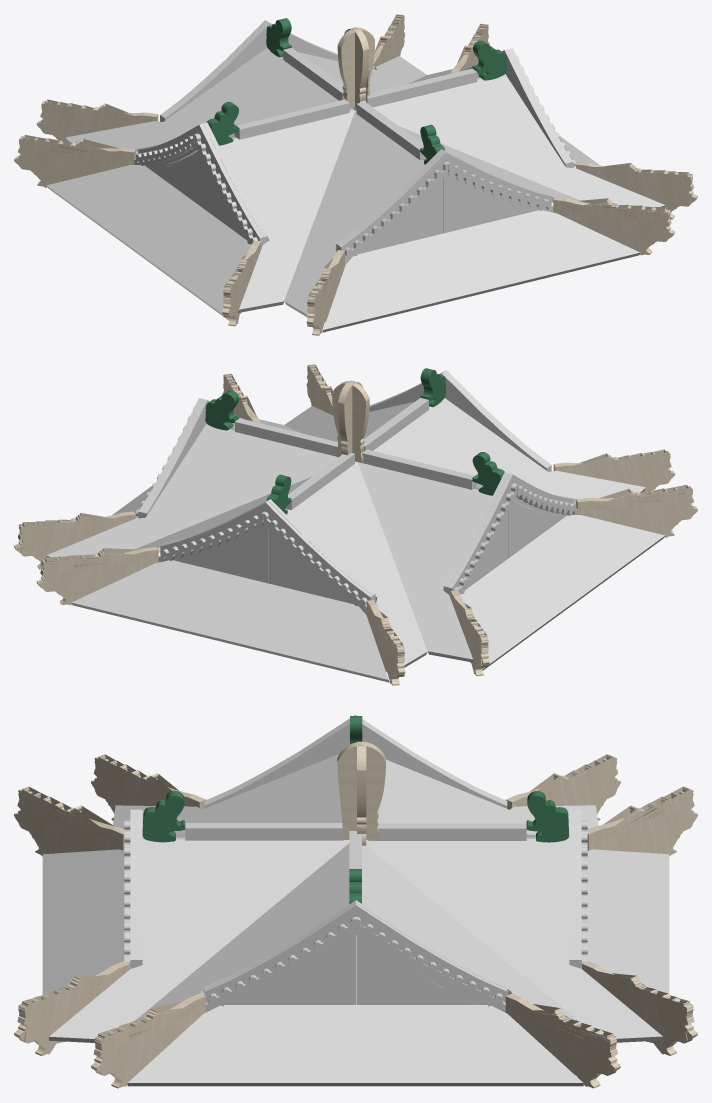
The picture shows the model from 3 angles, top to bottom: view 1: azimuth 30°, elevation 25°; view 2: azimuth 150°, elevation 25°; view 3: azimuth 270°, elevation 25°; orthographic projection. The views are drawn at different scales.
Visible parts, largest first — view 1: Mesh76 ___777_7 ___817_4 Model, Mesh4 ___777_4 ___817_2 Model, Mesh69 ___777_6 ___817_3 Model, Mesh50 ___721_4 ___769_2 ___818_2 Model, Mesh49 ___721_3 ___769_2 ___818_2 Model, Mesh1 ___777_1 ___817_1 Model, Mesh33 ___721_2 ___769_1 ___818_1 Model, Mesh32 ___721_1 ___769_1 ___818_1 Model, Mesh37 ___775_4 ___818_2 Model, Mesh20 ___775_2 ___818_1 Model, Mesh54 ___775_6 ___818_3 Model, Mesh85 ___775_7 ___818_4 Model (+34 smaller); view 2: Mesh77 ___777_8 ___817_4 Model, Mesh3 ___777_3 ___817_2 Model, Mesh1 ___777_1 ___817_1 Model, Mesh100 ___721_8 ___769_4 ___818_4 Model, Mesh99 ___721_7 ___769_4 ___818_4 Model, Mesh69 ___777_6 ___817_3 Model, Mesh32 ___721_1 ___769_1 ___818_1 Model, Mesh33 ___721_2 ___769_1 ___818_1 Model, Mesh87 ___775_8 ___818_4 Model, Mesh18 ___775_1 ___818_1 Model, Mesh52 ___775_5 ___818_3 Model, Mesh35 ___775_3 ___818_2 Model (+34 smaller); view 3: Mesh68 ___777_5 ___817_3 Model, Mesh2 ___777_2 ___817_1 Model, Mesh66 ___721_5 ___769_3 ___818_3 Model, Mesh67 ___721_6 ___769_3 ___818_3 Model, Mesh3 ___777_3 ___817_2 Model, Mesh4 ___777_4 ___817_2 Model, Mesh99 ___721_7 ___769_4 ___818_4 Model, Mesh49 ___721_3 ___769_2 ___818_2 Model, Mesh76 ___777_7 ___817_4 Model, Mesh77 ___777_8 ___817_4 Model, Mesh52 ___775_5 ___818_3 Model, Mesh54 ___775_6 ___818_3 Model (+30 smaller).
Boxes of the visible parts, x1=… form: Mesh76 ___777_7 ___817_4 Model: x1=219, y1=110, x2=355, y2=312; Mesh4 ___777_4 ___817_2 Model: x1=373, y1=74, x2=665, y2=207; Mesh69 ___777_6 ___817_3 Model: x1=284, y1=110, x2=424, y2=316; Mesh50 ___721_4 ___769_2 ___818_2 Model: x1=447, y1=210, x2=640, y2=293; Mesh49 ___721_3 ___769_2 ___818_2 Model: x1=322, y1=232, x2=481, y2=332; Mesh1 ___777_1 ___817_1 Model: x1=65, y1=48, x2=352, y2=149; Mesh33 ___721_2 ___769_1 ___818_1 Model: x1=46, y1=165, x2=197, y2=254; Mesh32 ___721_1 ___769_1 ___818_1 Model: x1=138, y1=204, x2=251, y2=320; Mesh37 ___775_4 ___818_2 Model: x1=553, y1=197, x2=671, y2=255; Mesh20 ___775_2 ___818_1 Model: x1=18, y1=135, x2=135, y2=187; Mesh54 ___775_6 ___818_3 Model: x1=576, y1=161, x2=694, y2=219; Mesh85 ___775_7 ___818_4 Model: x1=40, y1=99, x2=158, y2=141; Mesh77 ___777_8 ___817_4 Model: x1=357, y1=462, x2=492, y2=662; Mesh3 ___777_3 ___817_2 Model: x1=46, y1=423, x2=338, y2=557; Mesh1 ___777_1 ___817_1 Model: x1=286, y1=461, x2=427, y2=667; Mesh100 ___721_8 ___769_4 ___818_4 Model: x1=71, y1=560, x2=264, y2=643; Mesh99 ___721_7 ___769_4 ___818_4 Model: x1=230, y1=582, x2=389, y2=682; Mesh69 ___777_6 ___817_3 Model: x1=373, y1=398, x2=645, y2=499; Mesh32 ___721_1 ___769_1 ___818_1 Model: x1=514, y1=515, x2=665, y2=604; Mesh33 ___721_2 ___769_1 ___818_1 Model: x1=460, y1=554, x2=573, y2=670; Mesh87 ___775_8 ___818_4 Model: x1=40, y1=547, x2=158, y2=605; Mesh18 ___775_1 ___818_1 Model: x1=576, y1=485, x2=693, y2=537; Mesh52 ___775_5 ___818_3 Model: x1=18, y1=511, x2=135, y2=569; Mesh35 ___775_3 ___818_2 Model: x1=553, y1=449, x2=671, y2=491; Mesh68 ___777_5 ___817_3 Model: x1=49, y1=839, x2=349, y2=1042; Mesh2 ___777_2 ___817_1 Model: x1=366, y1=839, x2=662, y2=1042; Mesh66 ___721_5 ___769_3 ___818_3 Model: x1=355, y1=1005, x2=583, y2=1086; Mesh67 ___721_6 ___769_3 ___818_3 Model: x1=127, y1=1005, x2=355, y2=1086; Mesh3 ___777_3 ___817_2 Model: x1=362, y1=845, x2=576, y2=1020; Mesh4 ___777_4 ___817_2 Model: x1=136, y1=843, x2=349, y2=1020; Mesh99 ___721_7 ___769_4 ___818_4 Model: x1=587, y1=849, x2=669, y2=950; Mesh49 ___721_3 ___769_2 ___818_2 Model: x1=42, y1=849, x2=124, y2=950; Mesh76 ___777_7 ___817_4 Model: x1=113, y1=754, x2=341, y2=834; Mesh77 ___777_8 ___817_4 Model: x1=377, y1=759, x2=598, y2=834; Mesh52 ___775_5 ___818_3 Model: x1=505, y1=993, x2=617, y2=1088; Mesh54 ___775_6 ___818_3 Model: x1=93, y1=993, x2=205, y2=1088.
Bounding box in the file's own units: 224 × 76.93 × 224.
Materials: 3 (1 with a texture image).
